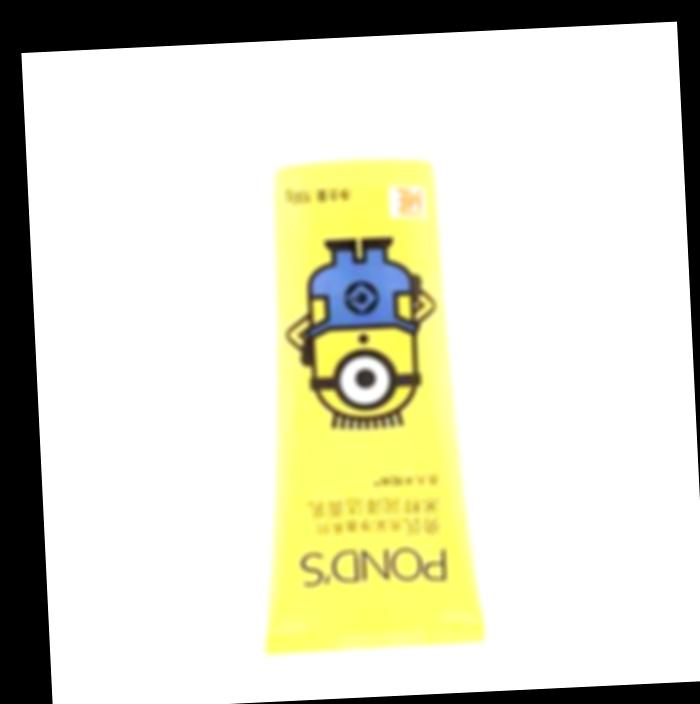cosmetic: (231, 58, 491, 653)
